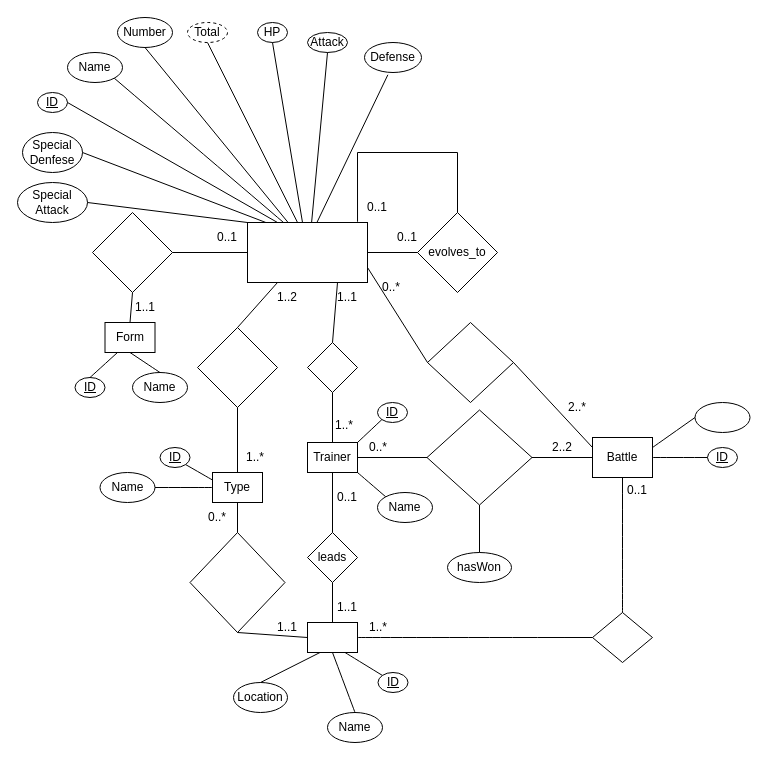
This 768x760 diagram has some shape labels left out. The shapes that lost their labels are listed below. From the top down, each one's centre as x and y in pixels, then its label:
point (132, 252): has_form
point (307, 252): Pokemon
point (237, 367): has_type
point (332, 367): owns
point (470, 362): fights_in
point (722, 417): Date
point (479, 457): participates_in
point (237, 582): specializes_in
point (332, 637): Gym
point (622, 637): hosts
